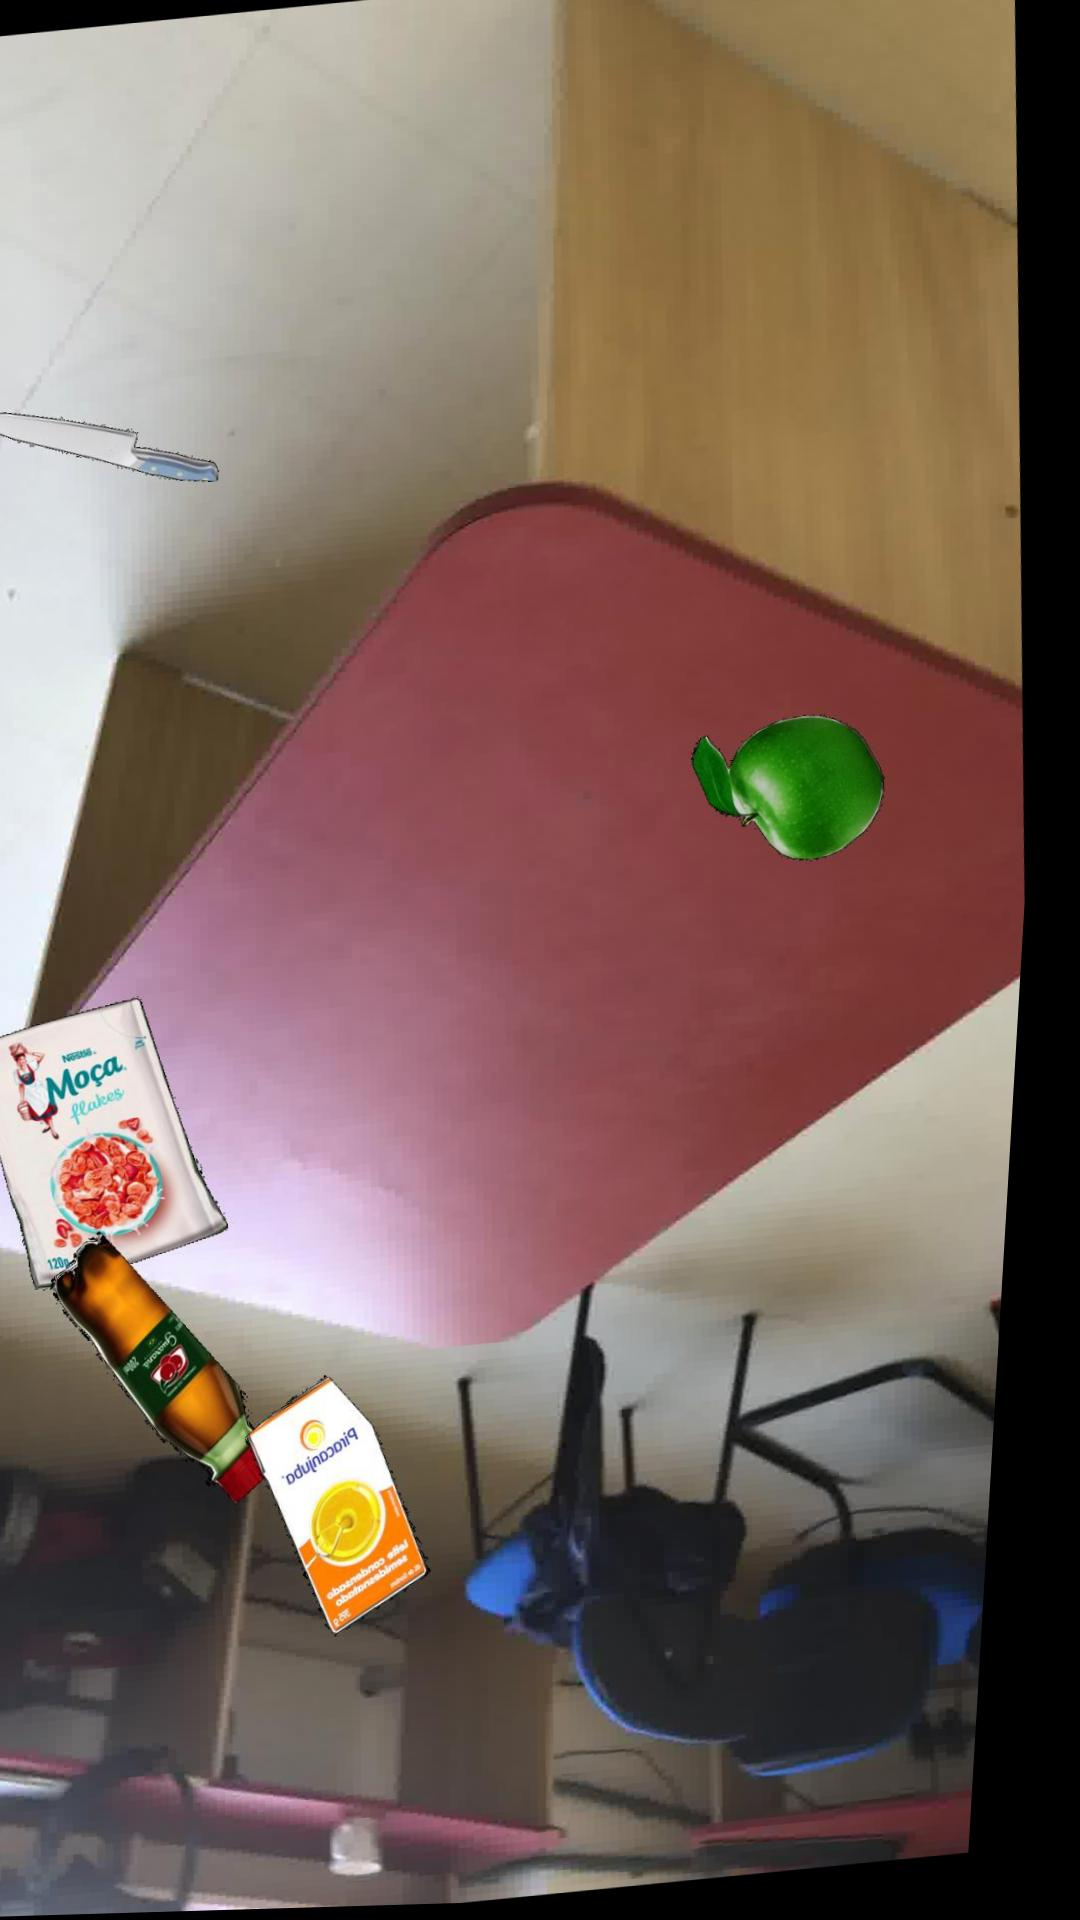corn flakes: (0, 1000, 244, 1288)
green apple: (702, 721, 895, 866)
guarana: (66, 1233, 284, 1507)
knife: (0, 413, 225, 484)
